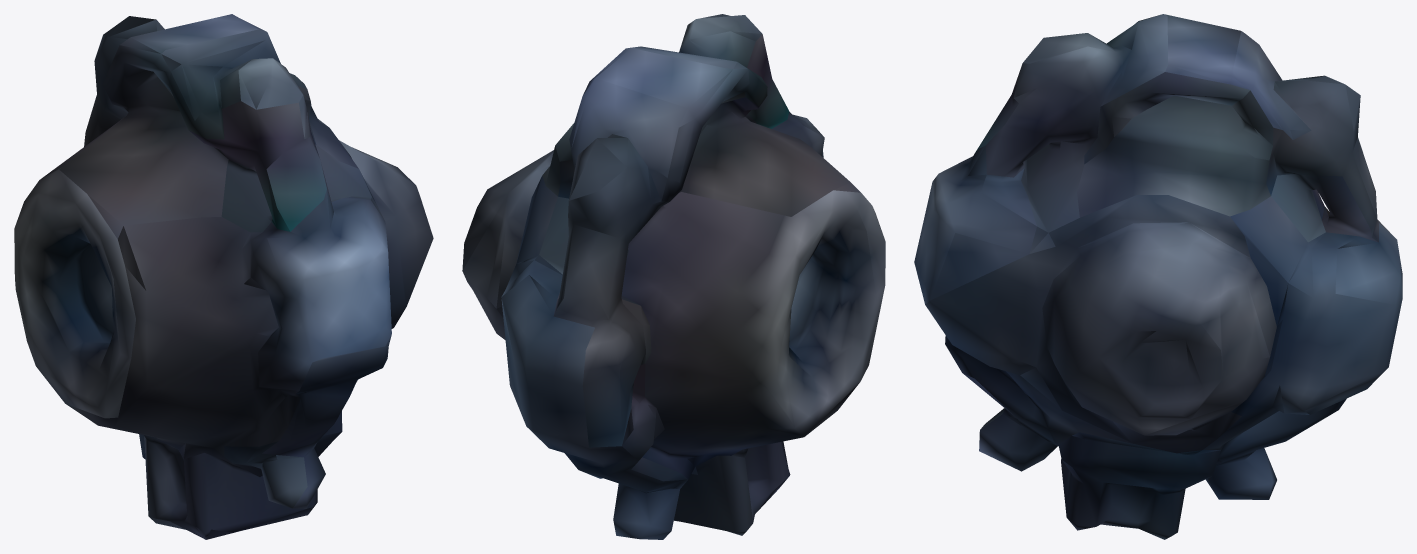
File: fleet3_weapon_pod.glb
3 renders of one model, left to right at view 1: azimuth 30°, elevation 25°; view 2: azimuth 150°, elevation 25°; view 3: azimuth 270°, elevation 25°, orthographic.
Parts seen in each view (by area): view 1: weapon_pod; view 2: weapon_pod; view 3: weapon_pod.
Boxes of the visible parts, x1,y1,x2,y2 form: weapon_pod: (14, 14, 433, 539); weapon_pod: (462, 14, 885, 539); weapon_pod: (914, 14, 1402, 539).
Bounding box in the file's own units: 0.0613 × 0.0807 × 0.0744.
Materials: 1 (1 with a texture image).
